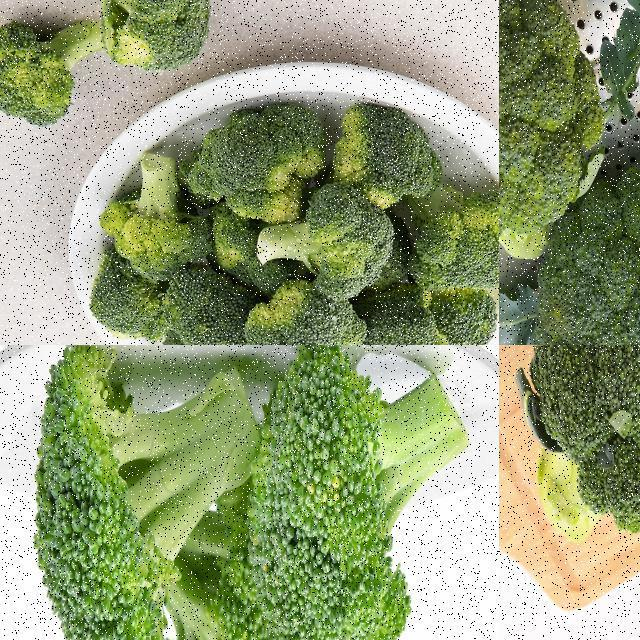broccoli: (99, 108, 498, 344), (34, 345, 260, 639), (245, 345, 469, 639), (499, 0, 607, 251), (510, 345, 639, 548), (528, 161, 639, 344), (140, 536, 283, 639), (0, 14, 104, 125), (76, 0, 208, 75)
